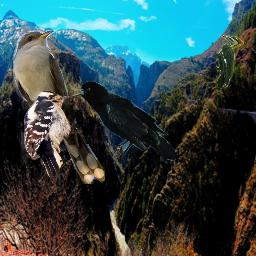Crow: (70, 81, 176, 166)
Cuckoo: (13, 30, 105, 184)
Woodpecker: (21, 89, 83, 183), (215, 35, 244, 92)
